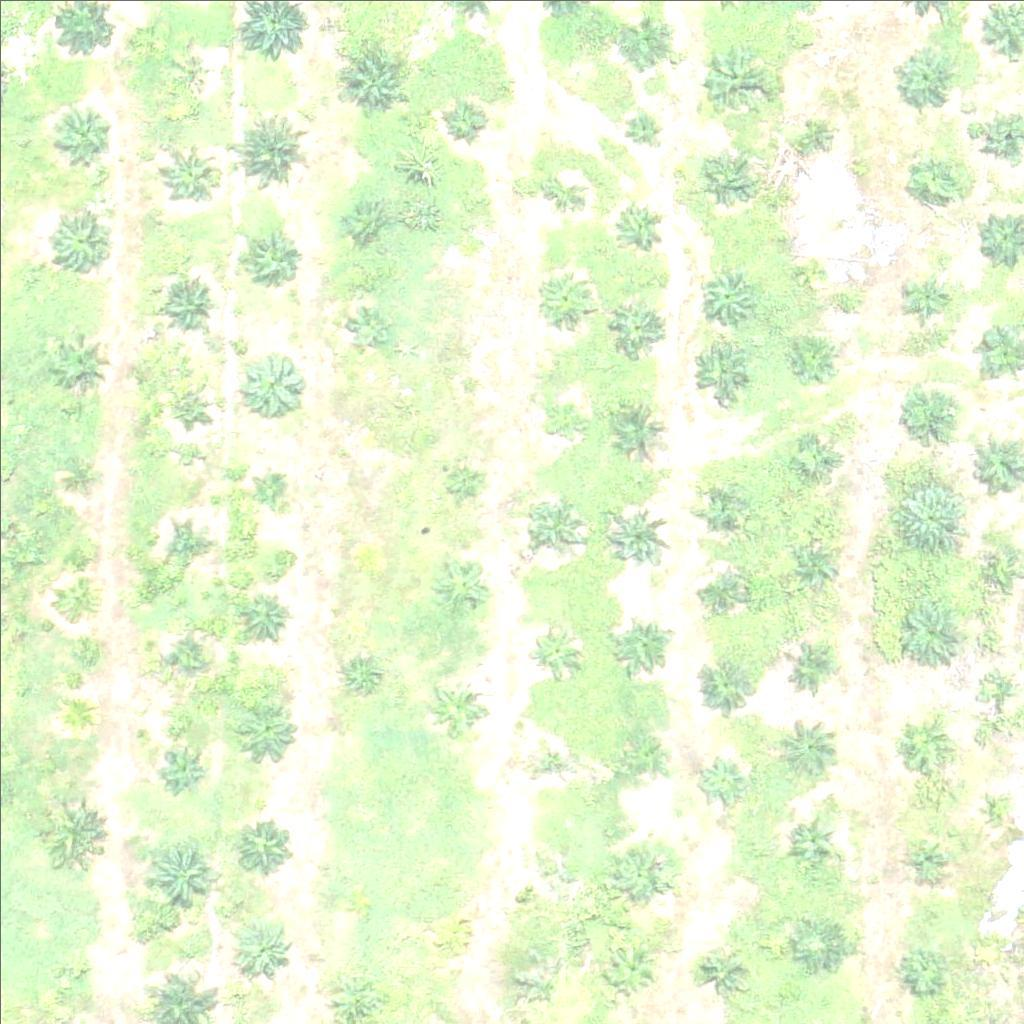Kelapa_Sawit: (895, 594, 970, 670), (891, 376, 966, 452), (696, 50, 771, 126), (891, 480, 966, 556), (237, 108, 312, 183), (145, 840, 220, 915), (243, 356, 306, 419), (432, 552, 495, 615), (689, 338, 752, 401), (231, 917, 294, 980), (40, 800, 103, 863), (773, 714, 836, 777), (615, 843, 678, 906), (425, 675, 488, 738), (694, 645, 757, 708), (611, 607, 673, 670), (345, 46, 407, 109), (243, 229, 305, 292), (698, 146, 760, 209), (610, 394, 672, 457), (523, 493, 585, 556), (607, 510, 669, 573), (899, 44, 961, 107), (238, 697, 300, 760), (234, 814, 296, 877), (160, 272, 222, 335), (50, 328, 112, 391), (52, 208, 114, 271), (48, 97, 110, 160), (158, 143, 220, 206), (598, 940, 660, 1003), (693, 260, 755, 322), (529, 626, 579, 677), (244, 588, 294, 639), (167, 518, 217, 569), (792, 918, 842, 969), (897, 947, 947, 998), (699, 947, 749, 998), (525, 732, 575, 783), (613, 734, 663, 785), (695, 757, 745, 808), (787, 815, 837, 866), (790, 339, 840, 389), (791, 435, 841, 485), (609, 304, 659, 354), (539, 272, 589, 322), (626, 9, 676, 59), (913, 156, 963, 206), (163, 739, 213, 789), (898, 714, 948, 764), (786, 113, 836, 163), (166, 376, 216, 426), (162, 625, 212, 675), (697, 569, 747, 619), (695, 485, 745, 535), (789, 549, 839, 599), (784, 644, 834, 694), (902, 831, 952, 881), (614, 200, 664, 250), (910, 278, 948, 316), (623, 110, 661, 148), (59, 694, 97, 732), (57, 572, 95, 610), (58, 452, 96, 490), (433, 922, 471, 960), (342, 651, 380, 689), (546, 399, 584, 437), (448, 216, 486, 254), (542, 174, 580, 212), (344, 200, 381, 238), (169, 51, 206, 89), (443, 103, 481, 140), (252, 468, 289, 506), (527, 870, 564, 908), (444, 463, 481, 500), (349, 313, 386, 350), (983, 553, 1008, 579), (62, 955, 87, 980), (990, 799, 1015, 824), (985, 671, 1010, 696), (802, 263, 827, 288), (795, 28, 820, 53)
